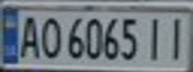0: (81, 15, 106, 62)
5: (118, 14, 142, 62)
6: (103, 14, 124, 62), (63, 14, 84, 61)
A: (15, 11, 42, 60)
I: (163, 14, 193, 62), (139, 15, 169, 62)
O: (36, 14, 63, 61)
